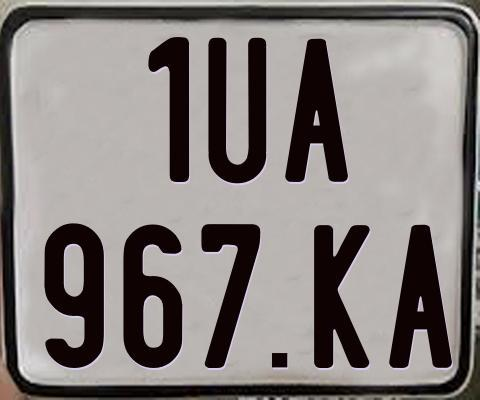1: (147, 35, 190, 183)
6: (122, 223, 182, 371)
7: (199, 222, 264, 367)
9: (43, 220, 104, 367)
A: (282, 36, 350, 183), (388, 225, 453, 369)
K: (313, 225, 370, 372)
U: (207, 35, 271, 184)
